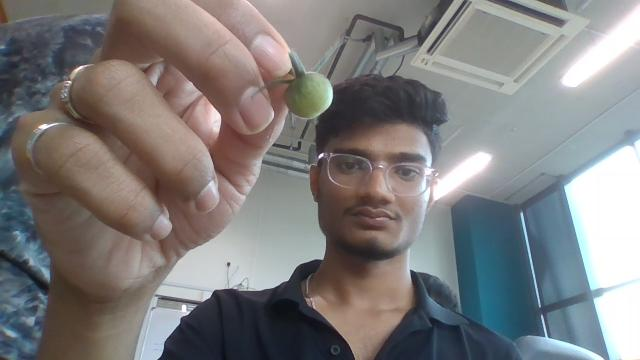Fruit Maturation: (284, 71, 332, 120)
